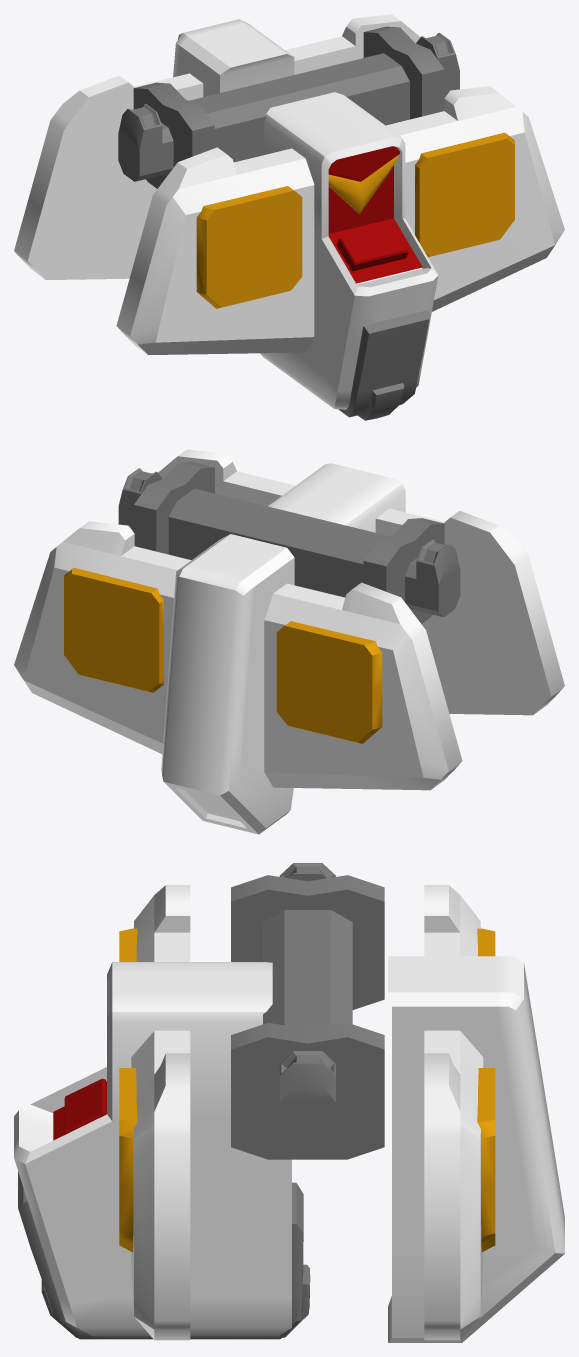
The model's file is dbody.obj.
3 renders of one model, top to bottom at view 1: azimuth 30°, elevation 25°; view 2: azimuth 150°, elevation 25°; view 3: azimuth 270°, elevation 25°, orthographic. The views are drawn at different scales.
Parts seen in each view (by area): view 1: dbody; view 2: dbody; view 3: dbody.
Part boxes in pixels (x1,y1,x2,y2): dbody: (14, 14, 564, 420); dbody: (14, 449, 564, 834); dbody: (14, 863, 564, 1342).
Size of the model in its own units: 7.38 by 4.62 by 6.15.
